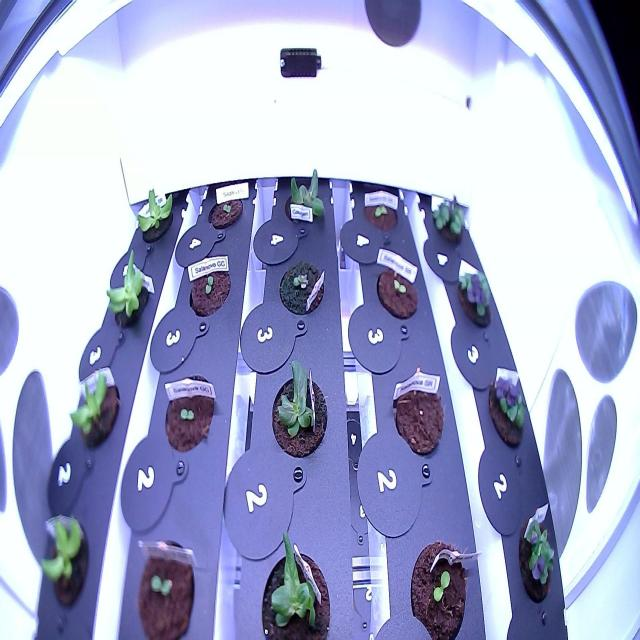germination: (132, 525, 205, 640), (406, 524, 475, 639), (157, 364, 221, 465), (368, 244, 425, 327), (484, 366, 532, 460), (515, 514, 558, 614), (184, 245, 237, 322), (275, 252, 330, 320), (452, 263, 494, 333), (429, 188, 469, 254), (204, 180, 247, 241), (360, 180, 402, 242)
pod: (386, 360, 450, 465)
young: (254, 525, 334, 640), (263, 351, 330, 470), (29, 502, 92, 622), (63, 364, 122, 462), (99, 240, 155, 343), (279, 162, 332, 240), (132, 177, 178, 251)
